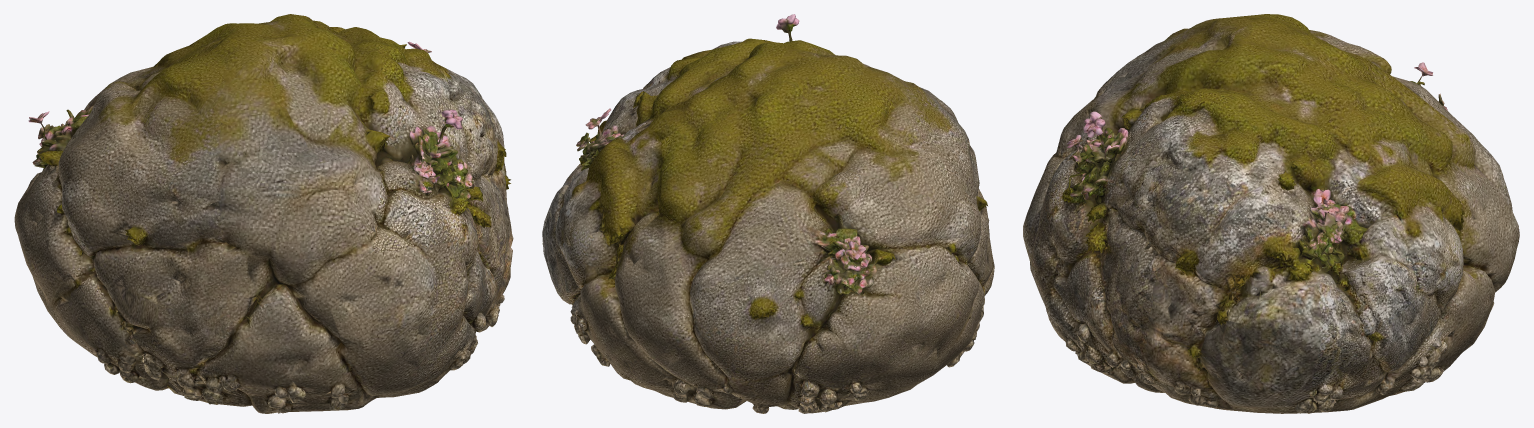
File: SM_Boulder_Mossy.glb
3 renders of one model, left to right at view 1: azimuth 30°, elevation 25°; view 2: azimuth 150°, elevation 25°; view 3: azimuth 270°, elevation 25°, orthographic. The views are drawn at different scales.
Parts seen in each view (by area): view 1: tripo_node_3f72a1c2-20be-41c4-9662-314b3d5d74cc; view 2: tripo_node_3f72a1c2-20be-41c4-9662-314b3d5d74cc; view 3: tripo_node_3f72a1c2-20be-41c4-9662-314b3d5d74cc.
Part boxes in pixels (left/top/right/bottom): tripo_node_3f72a1c2-20be-41c4-9662-314b3d5d74cc: left=14, top=14, right=513, bottom=413; tripo_node_3f72a1c2-20be-41c4-9662-314b3d5d74cc: left=542, top=14, right=994, bottom=413; tripo_node_3f72a1c2-20be-41c4-9662-314b3d5d74cc: left=1023, top=14, right=1519, bottom=413.
Size of the model in its own units: 0.9788 by 0.655 by 0.9796.
Materials: 1 (1 with a texture image).
